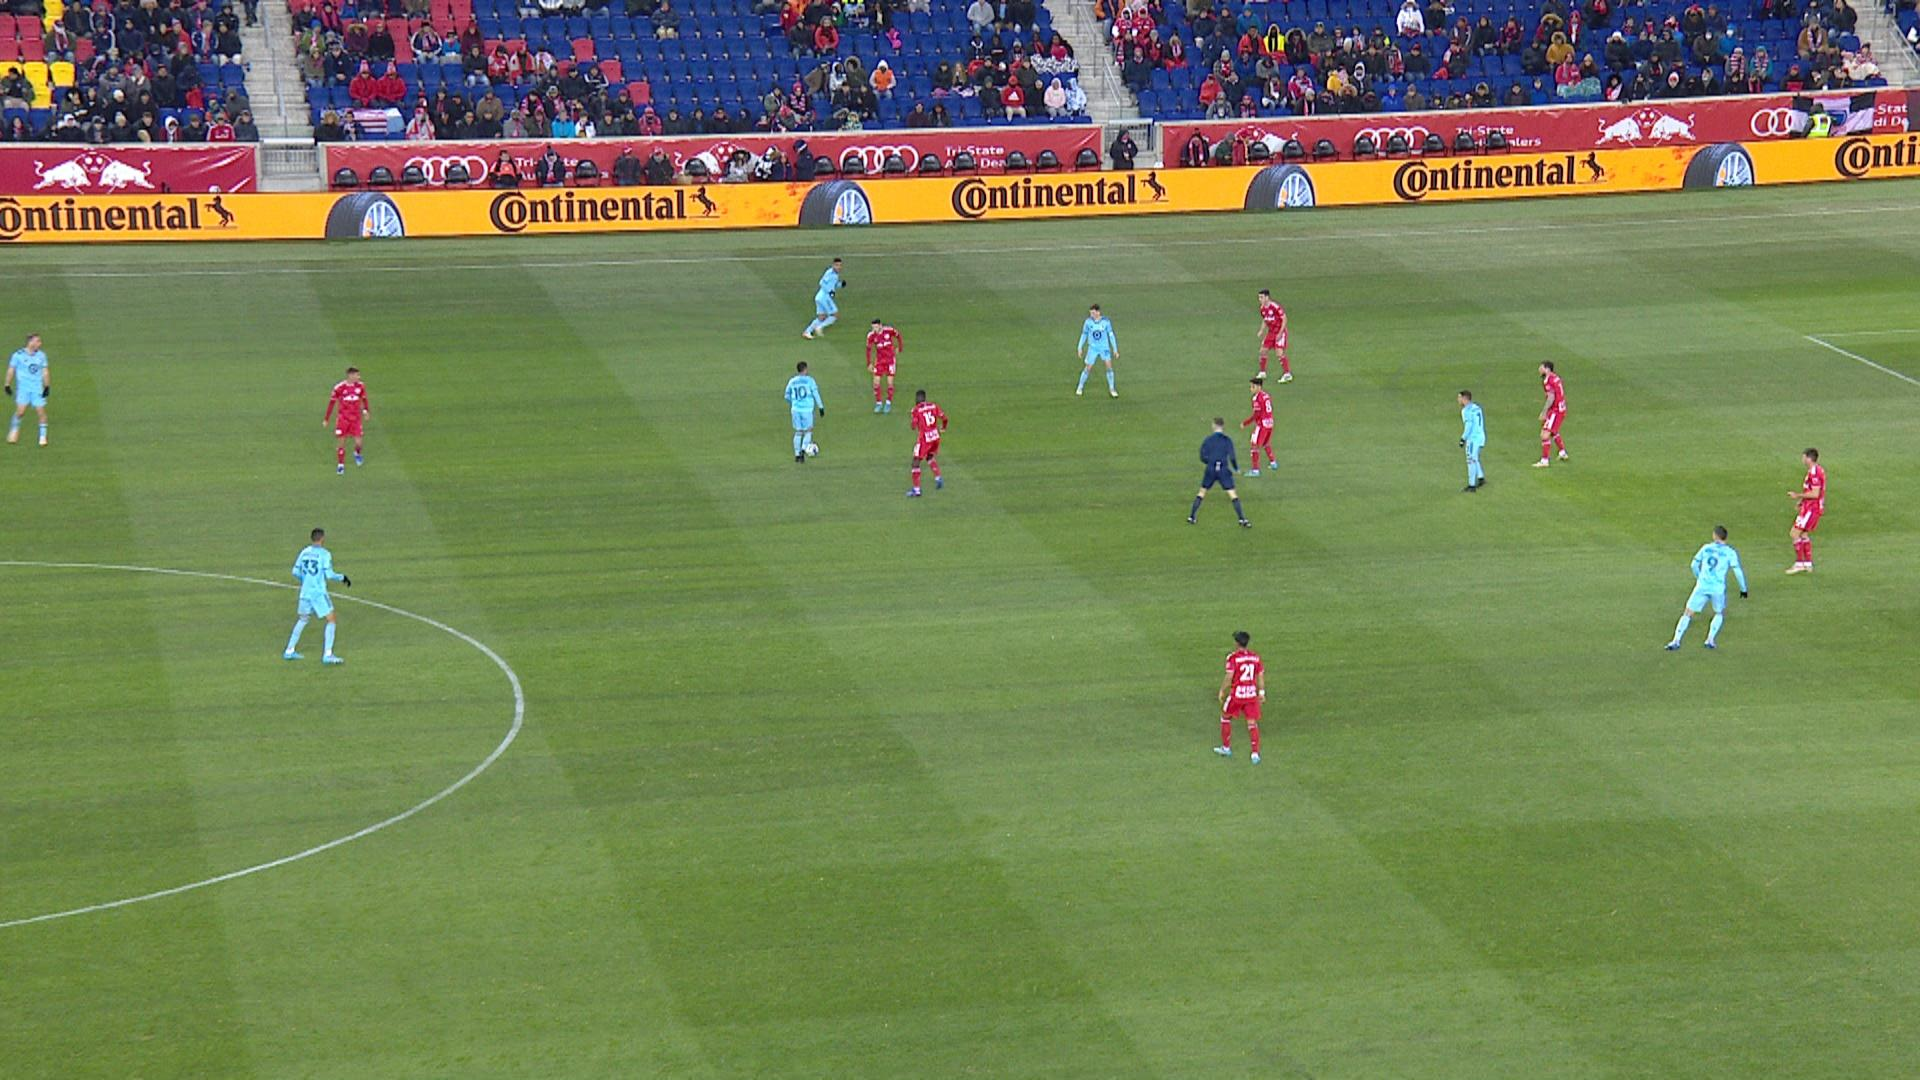football: (808, 443, 821, 458)
